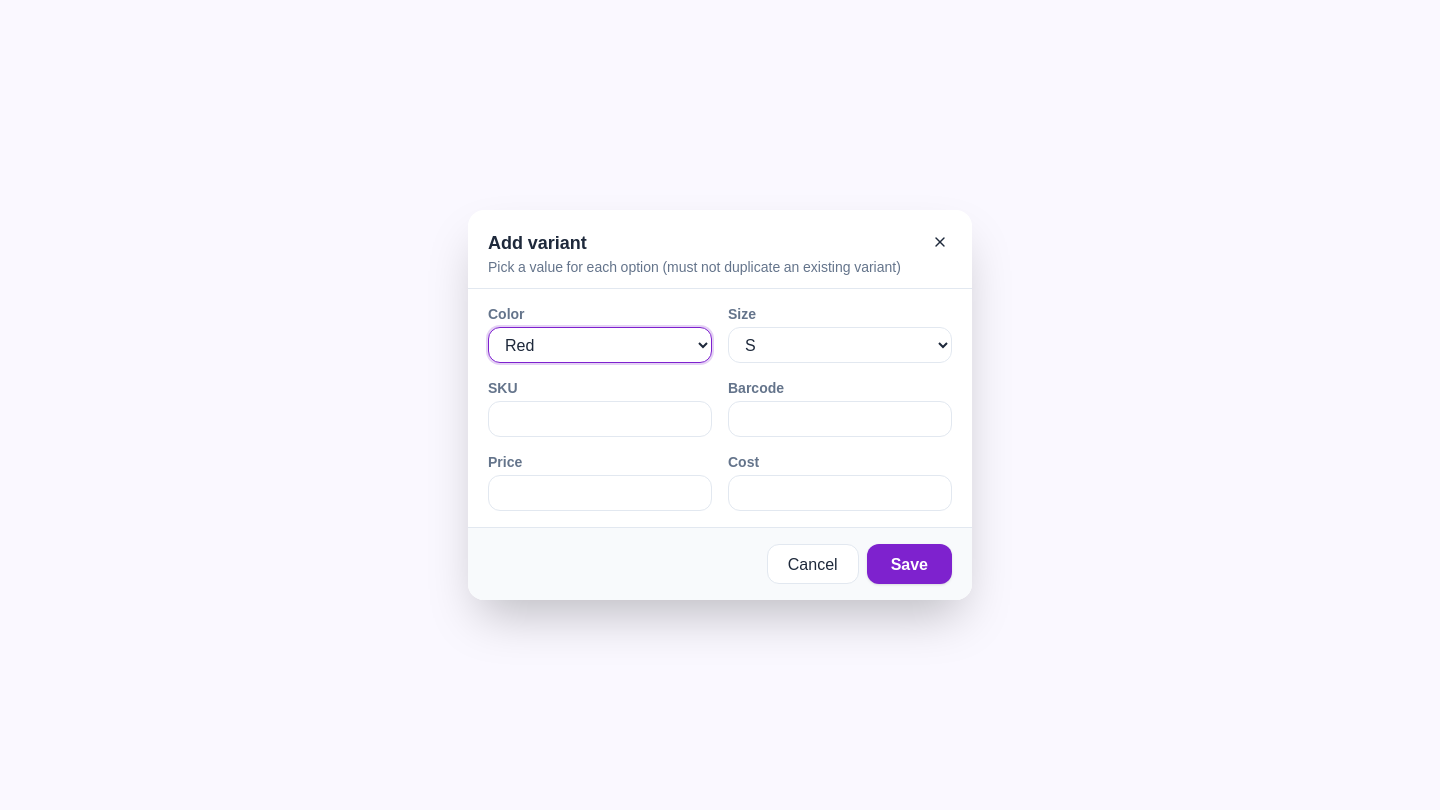
AddVariantDialog › shows the translated API error, keeps the dialog open and the entered values
Select "M" in the dropdown labelled "Size" at (840, 345), box [728, 327, 952, 363]
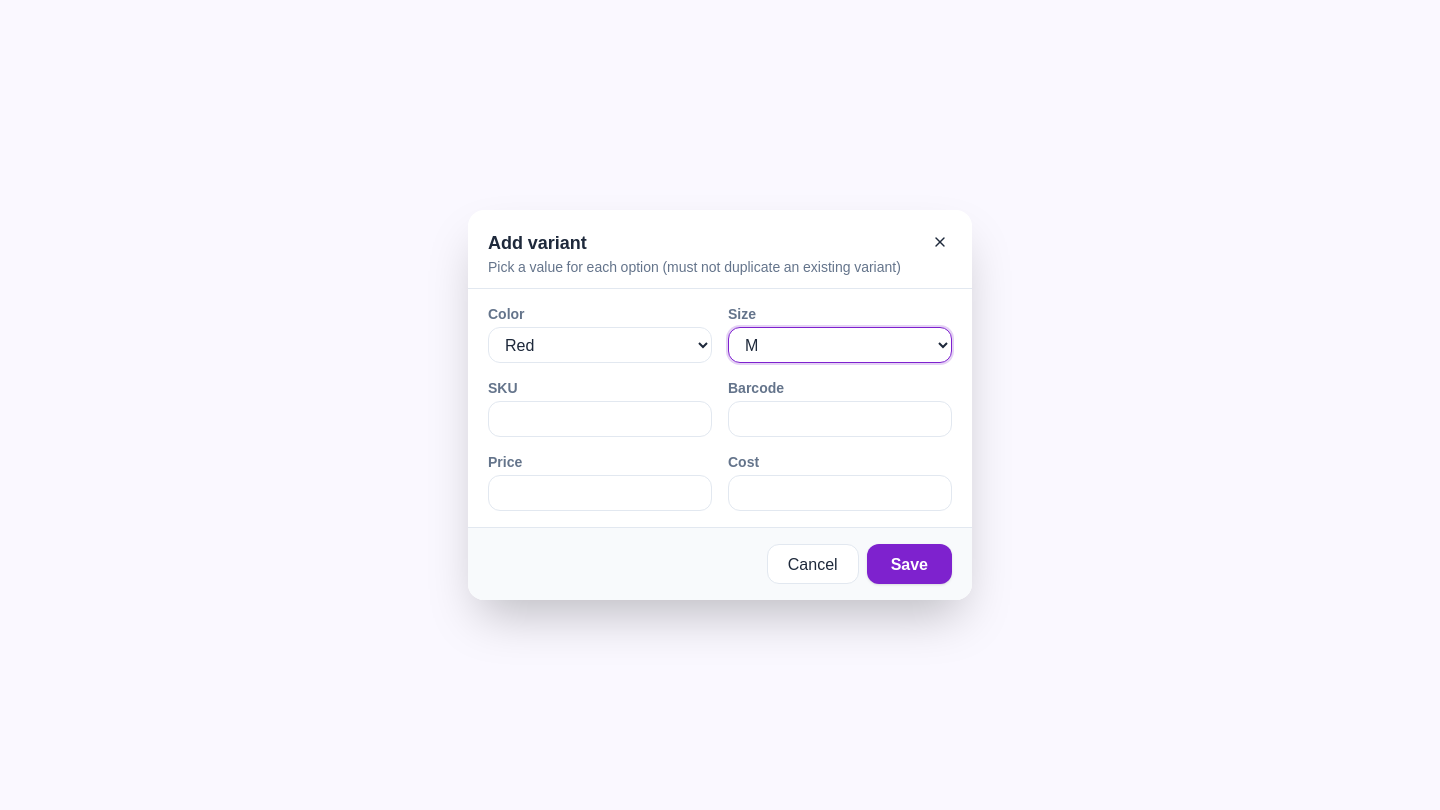
Type "TEE-R-S" into the field labelled "SKU" at (600, 419), box [488, 401, 712, 437]
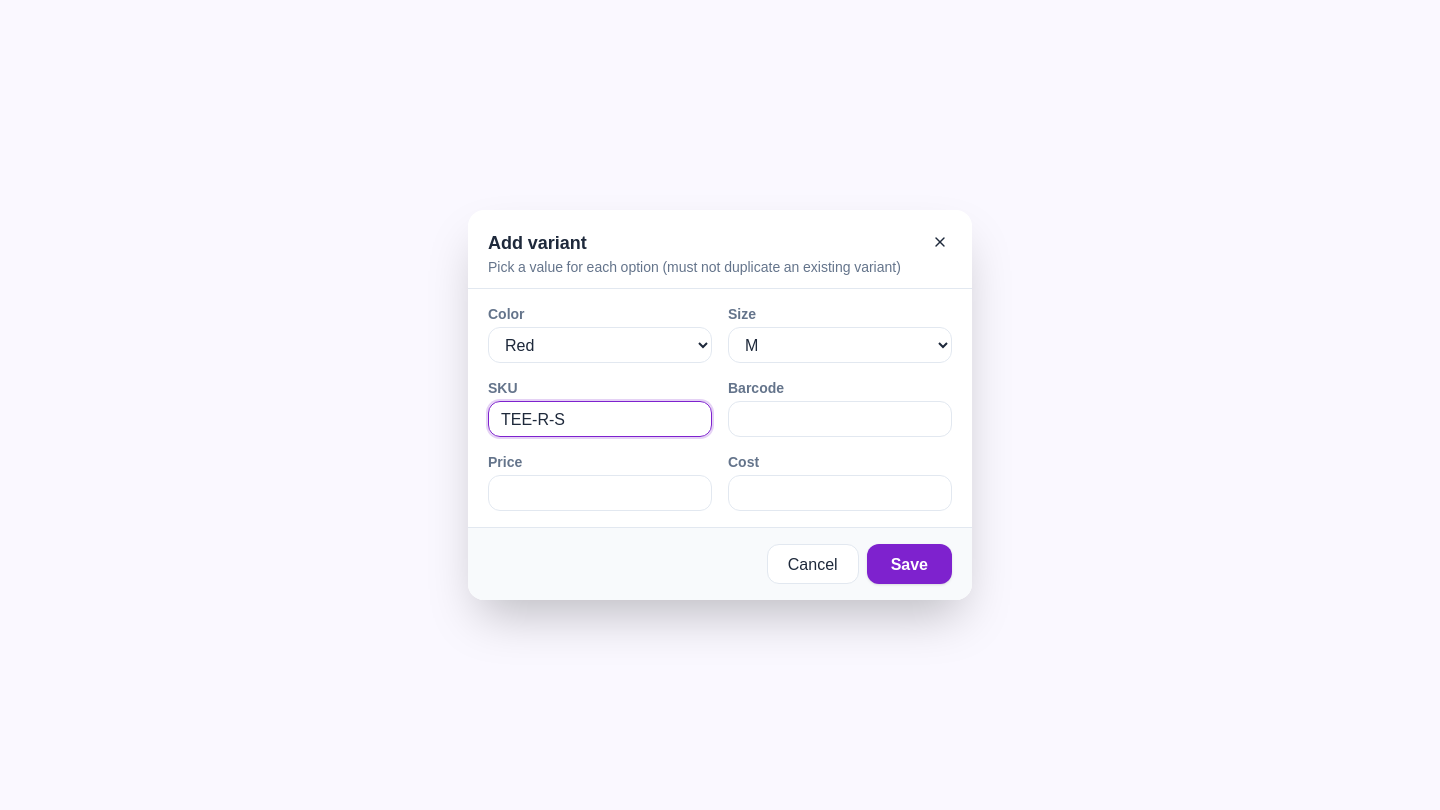
Type "100" into the field labelled "Price" at (600, 493), box [488, 475, 712, 511]
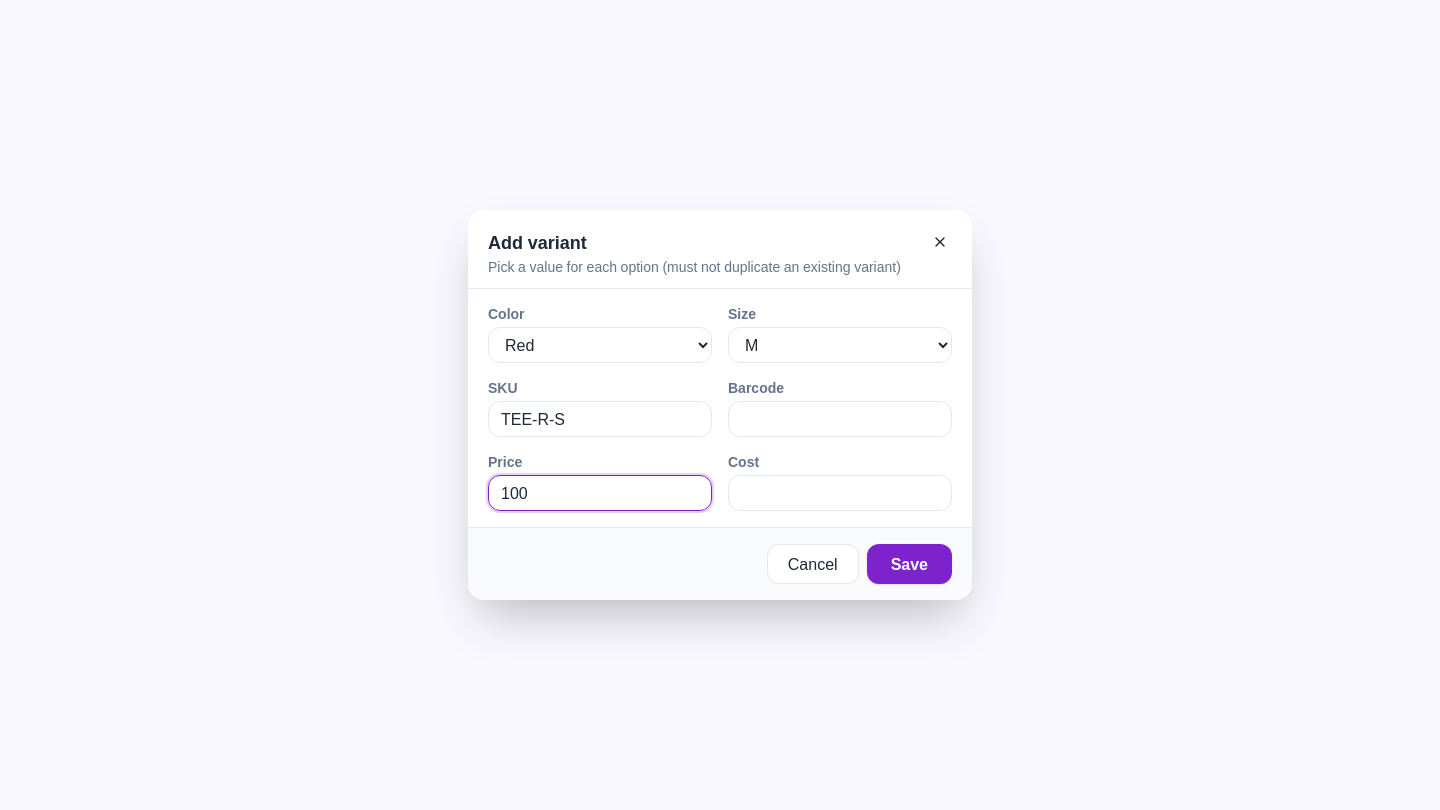
Click the button "Save" at (909, 564), box [867, 544, 952, 584]
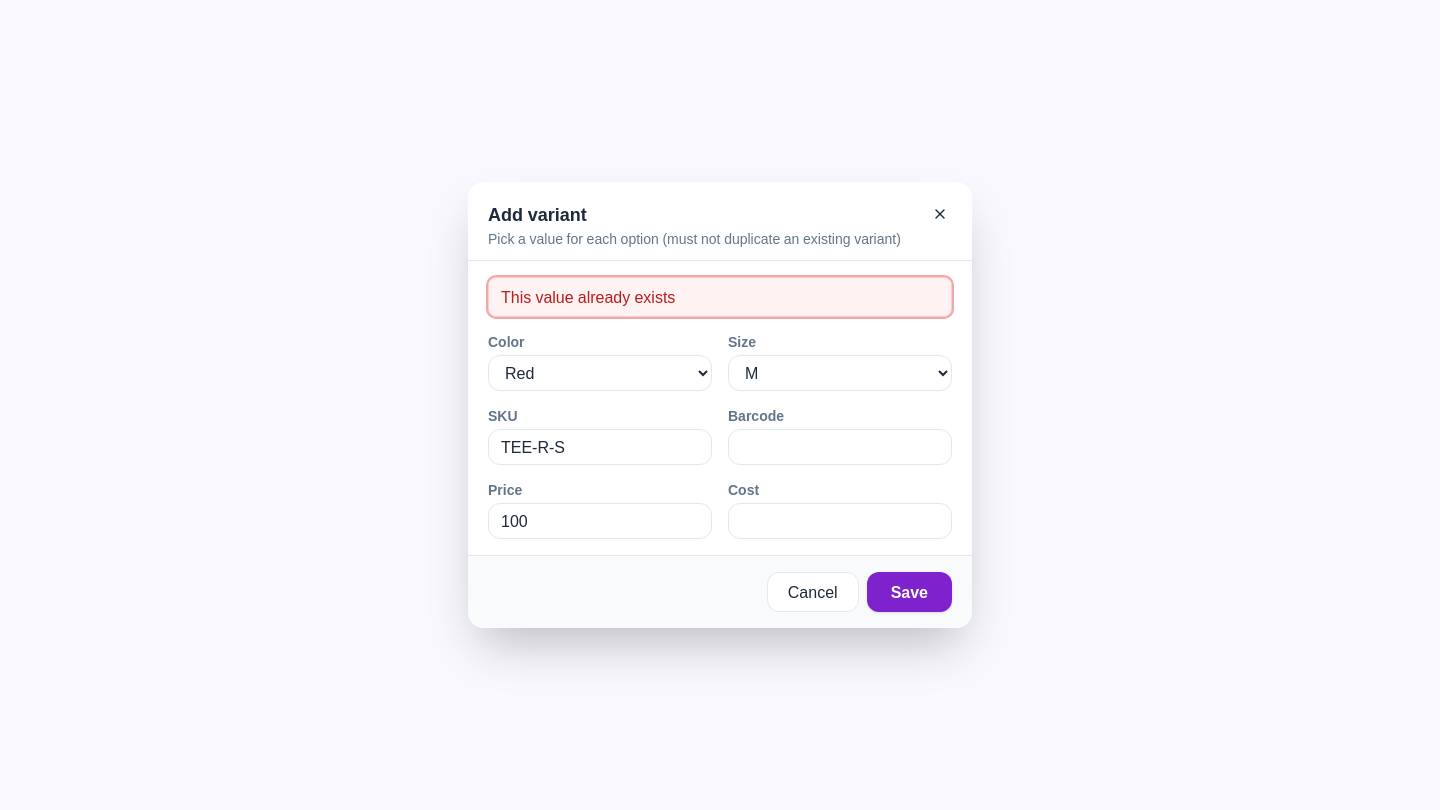
Expected: the button "Save" is enabled, [867, 572, 952, 612]
Now the message reads "This value already exists", box [501, 284, 675, 310]
